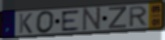E: (61, 9, 81, 33)
K: (18, 12, 34, 34)
N: (82, 6, 103, 32)
O: (35, 10, 56, 34)
R: (128, 6, 149, 29)
Z: (107, 6, 128, 30)
